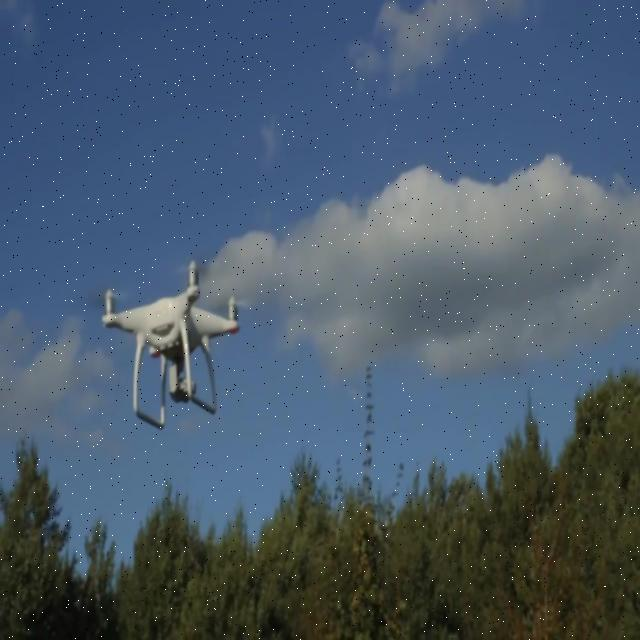UAV: (87, 260, 253, 430)
